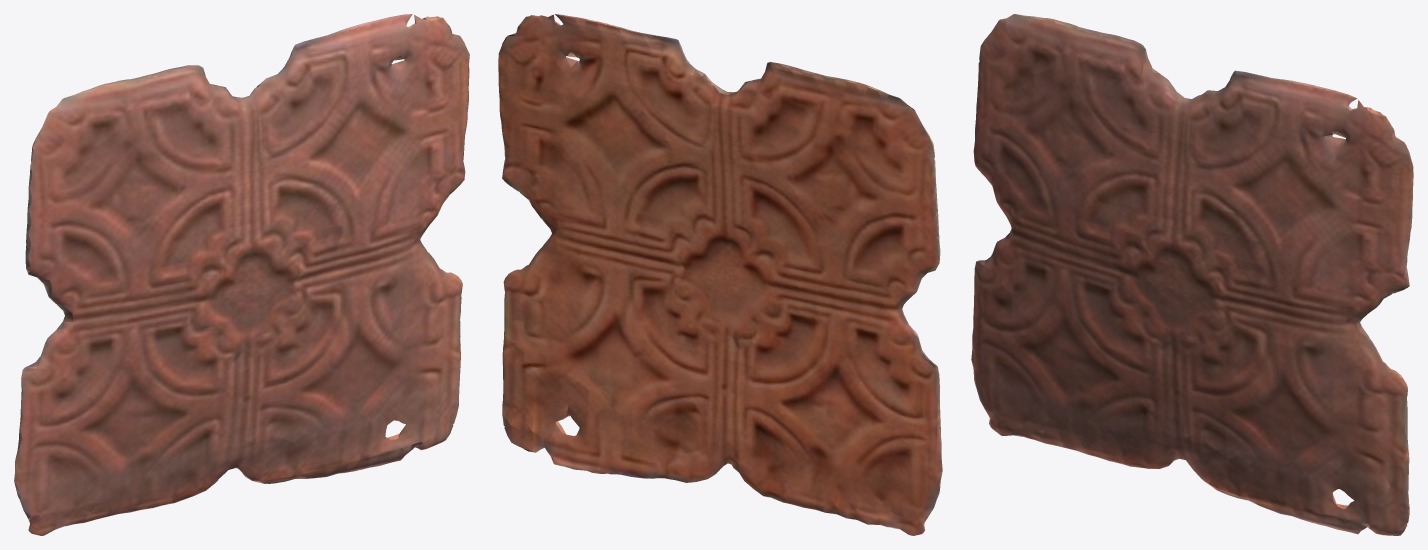
3 renders of one model, left to right at view 1: azimuth 30°, elevation 25°; view 2: azimuth 150°, elevation 25°; view 3: azimuth 330°, elevation 25°, orthographic.
Parts seen in each view (by area): view 1: world; view 2: world; view 3: world.
Boxes of the visible parts, x1,y1,x2,y2 form: world: [14, 14, 469, 535]; world: [498, 14, 942, 535]; world: [971, 14, 1413, 535].
Size of the model in its own units: 0.8984 by 0.8647 by 0.0723.
1 material, 1 textured.
